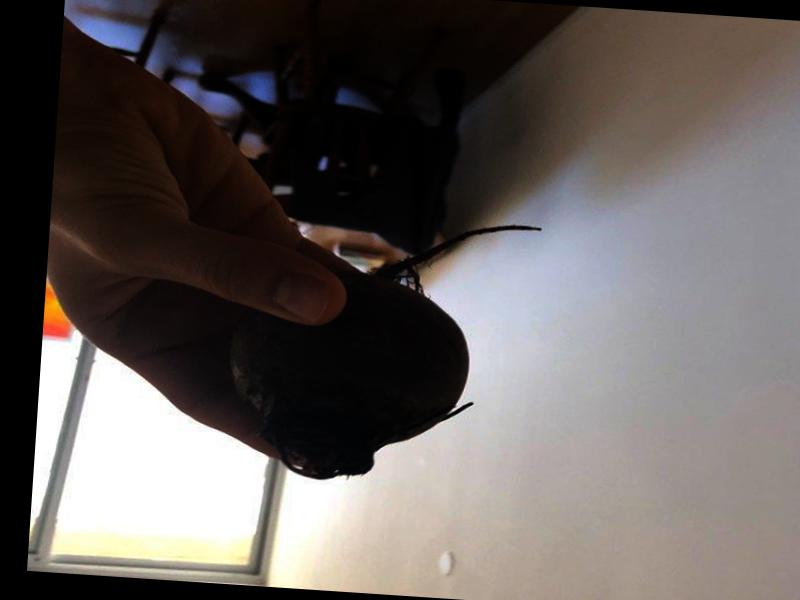Beet: (223, 206, 541, 492)
